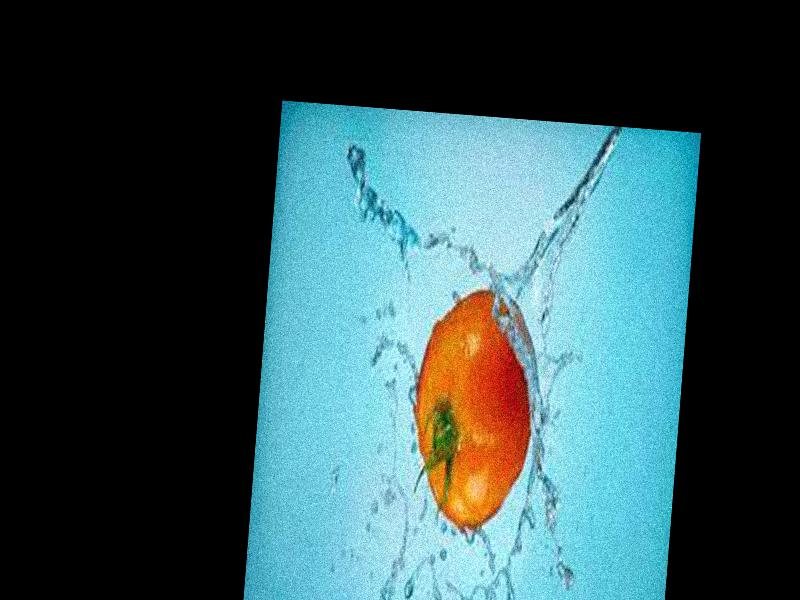Tomato: (407, 286, 543, 534)
